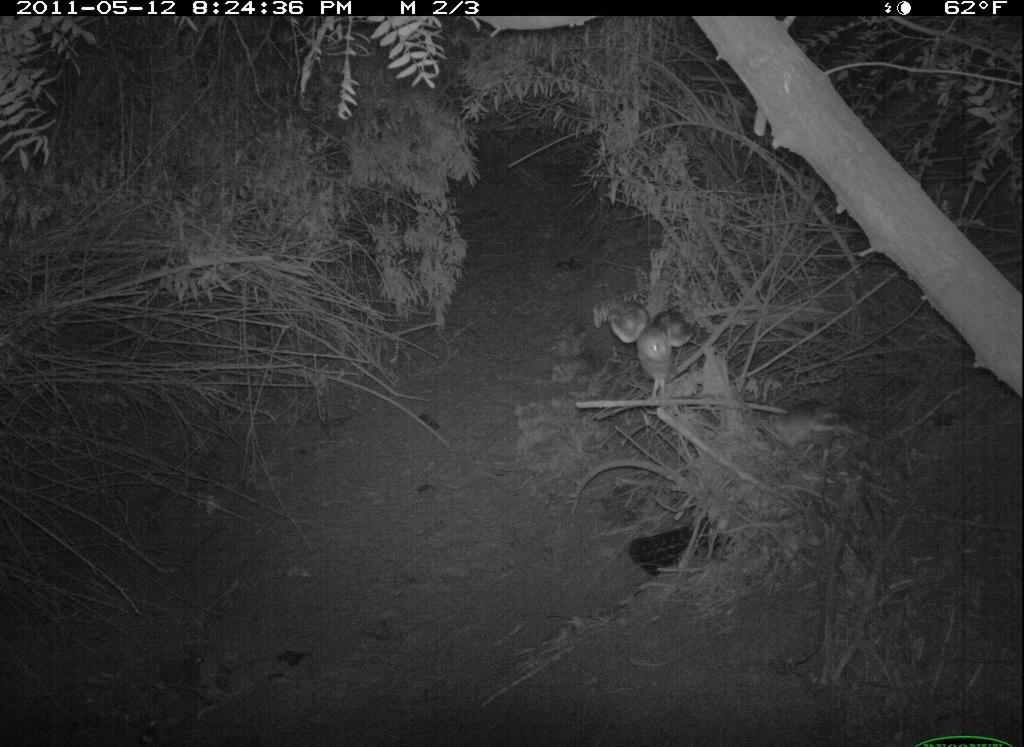bird: (602, 289, 701, 410)
